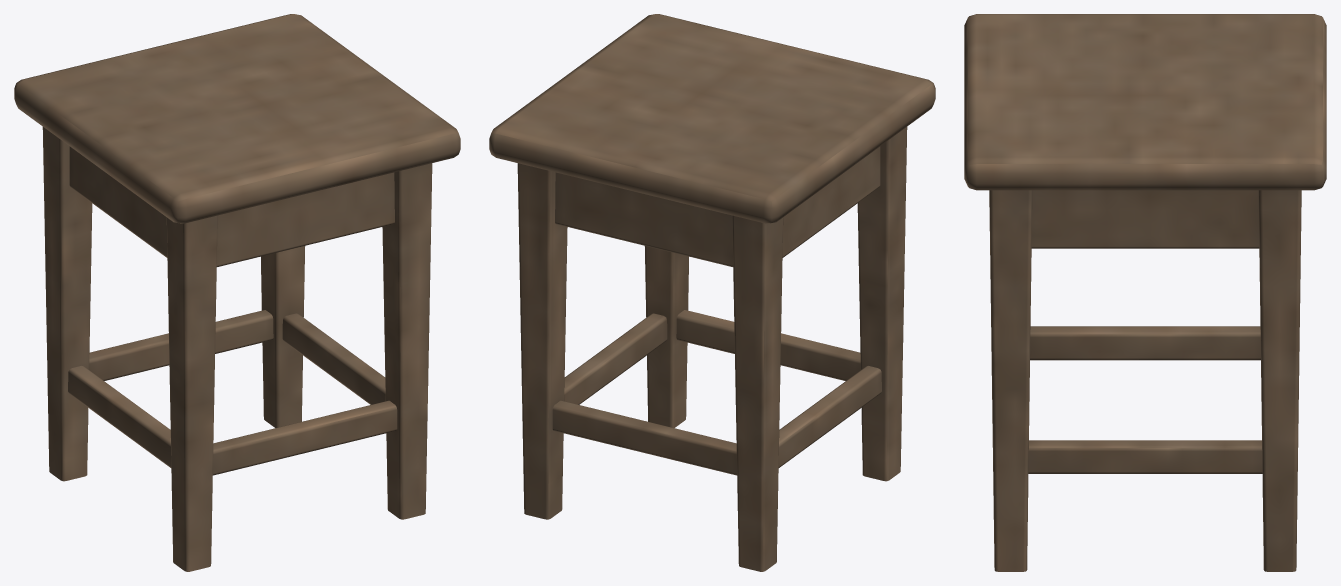
The model's file is Shop_Stool.fbx.
The picture shows the model from 3 angles, left to right: view 1: azimuth 30°, elevation 25°; view 2: azimuth 150°, elevation 25°; view 3: azimuth 270°, elevation 25°; orthographic projection. The views are drawn at different scales.
Parts seen in each view (by area): view 1: Shop_Stool; view 2: Shop_Stool; view 3: Shop_Stool.
Boxes of the visible parts, <box> form: Shop_Stool: <box>14,14,460,571</box>; Shop_Stool: <box>489,14,935,571</box>; Shop_Stool: <box>964,14,1326,571</box>.
Bounding box in the file's own units: 0.35 × 0.45 × 0.35.
